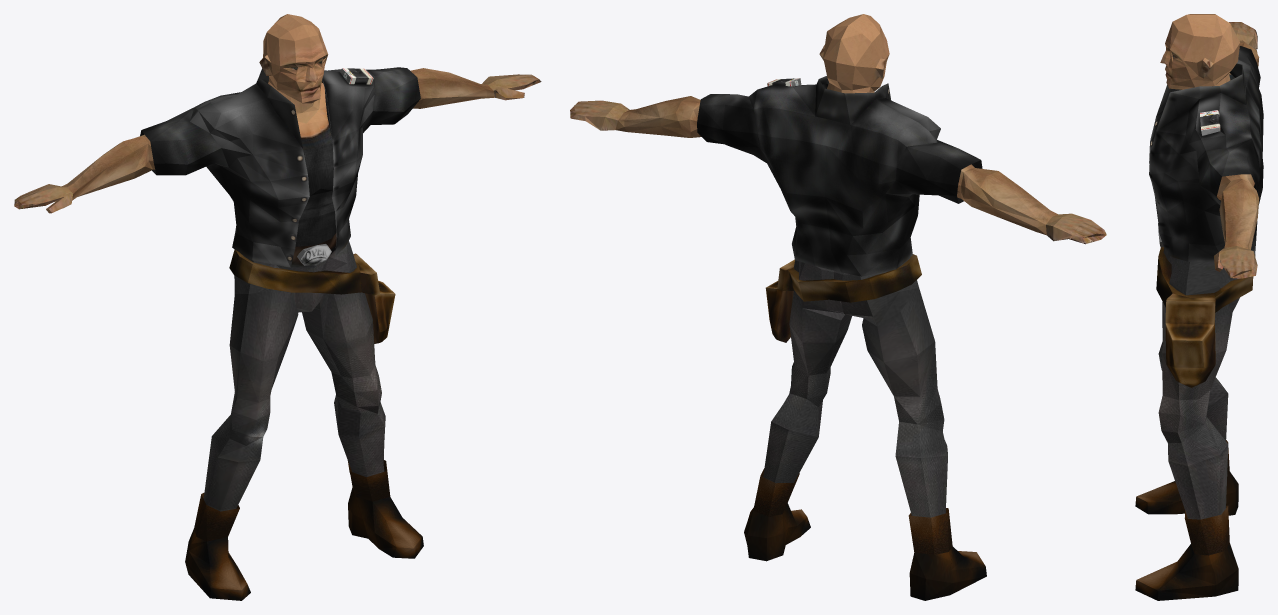
File: heoutfitall.obj
3 views of the same model, side by side, from view 1: azimuth 30°, elevation 25°; view 2: azimuth 150°, elevation 25°; view 3: azimuth 270°, elevation 25° (orthographic). The views are drawn at different scales.
Size of the model in its own units: 1 by 0.9841 by 0.2139.
